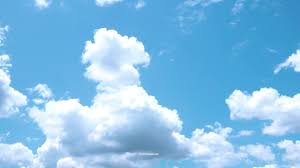sky: (2, 1, 299, 168)
